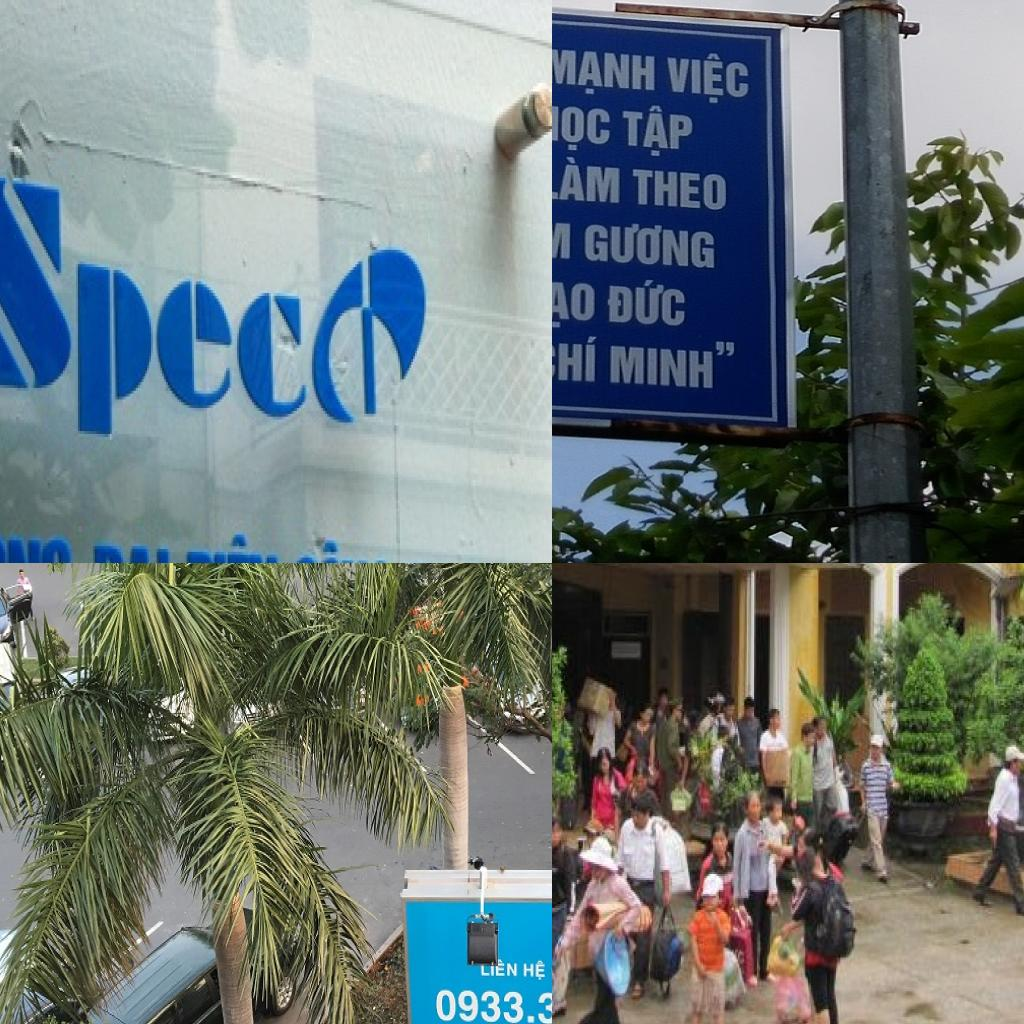text: (0, 155, 459, 488), (609, 332, 739, 393), (582, 219, 716, 271), (552, 45, 657, 99), (663, 46, 751, 106), (0, 505, 78, 563), (604, 276, 689, 329), (435, 986, 552, 1024), (632, 168, 728, 213), (620, 102, 694, 160), (552, 92, 613, 154), (552, 153, 622, 205), (184, 532, 285, 563), (293, 534, 396, 563), (89, 532, 177, 563), (552, 332, 599, 385), (552, 277, 597, 332), (552, 204, 575, 261), (480, 960, 518, 978), (523, 960, 546, 982)
